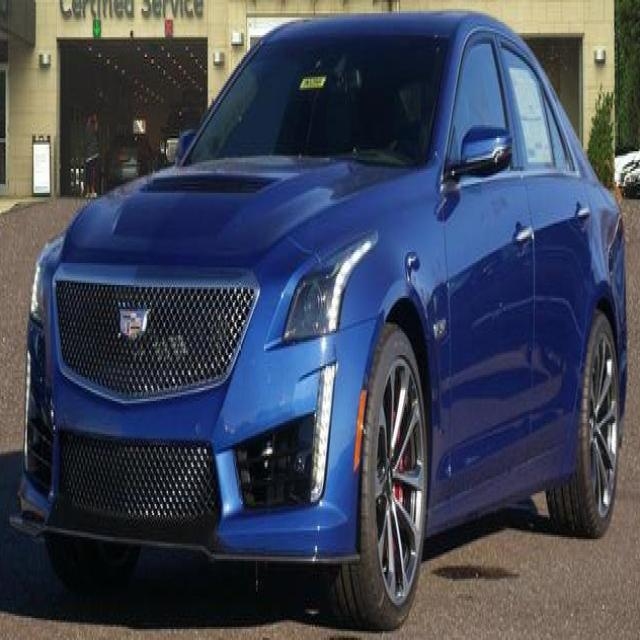blue: (12, 11, 630, 596)
